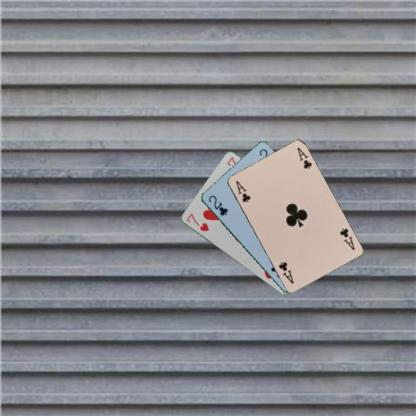2c: (206, 193, 228, 217)
7h: (184, 211, 209, 233)
Ac: (337, 226, 356, 252), (233, 178, 252, 203)
